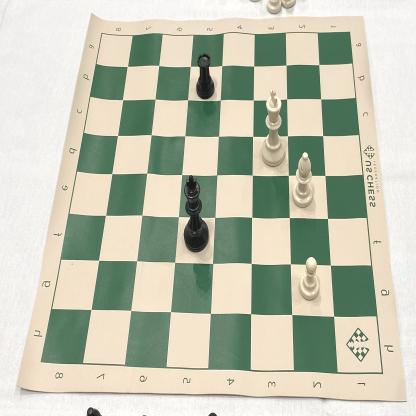black-king: (181, 172, 211, 255)
black-rook: (194, 52, 216, 102)
white-bishop: (291, 150, 316, 208)
white-king: (259, 85, 286, 169)
white-pawn: (299, 254, 322, 303)
